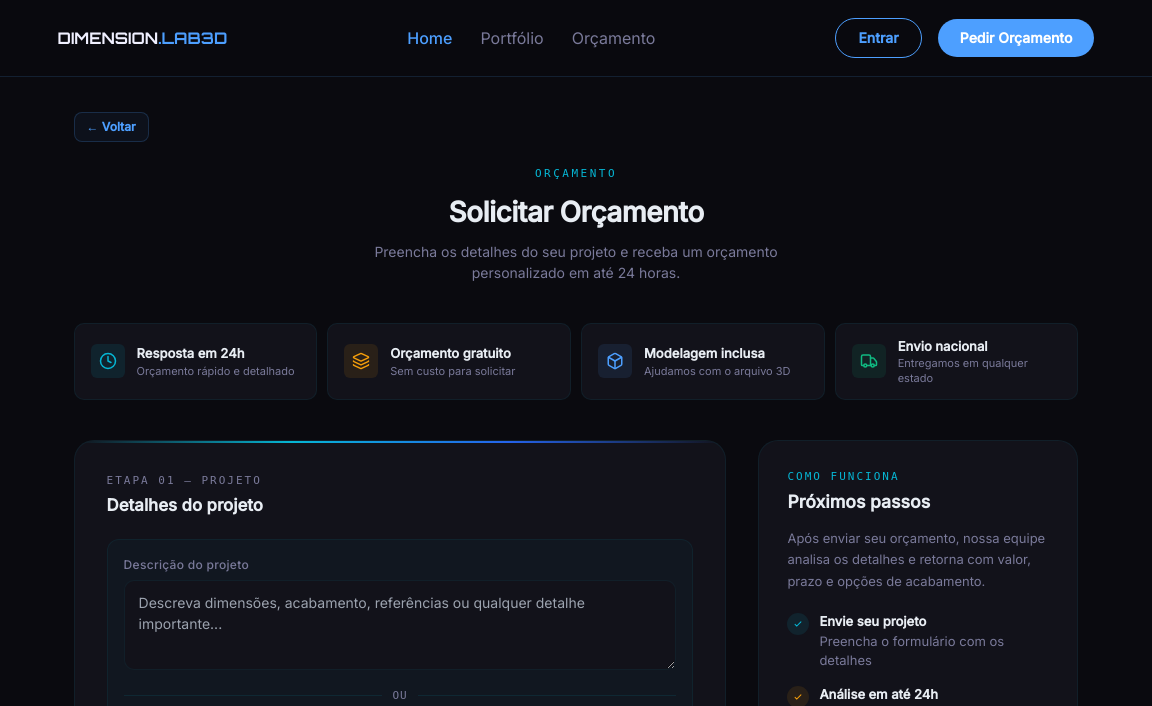
QuoteRequest page › shows color validation error when color is not selected
Fill everything except color
Step 1. Type "A valid description here" into the text box labelled "Descrição do projeto" → (400, 625), box [124, 580, 676, 670]
(page scrolled)
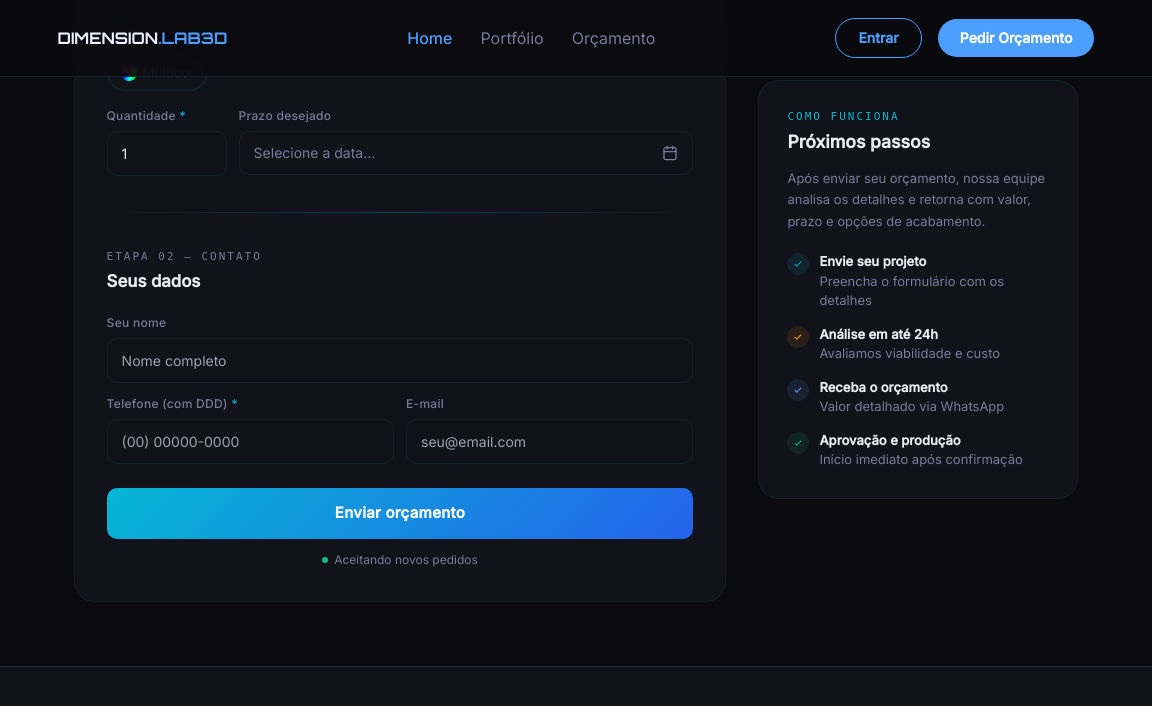
Step 2. Type "Test User" into the field labelled "Seu nome" → (400, 361), box [107, 338, 693, 383]
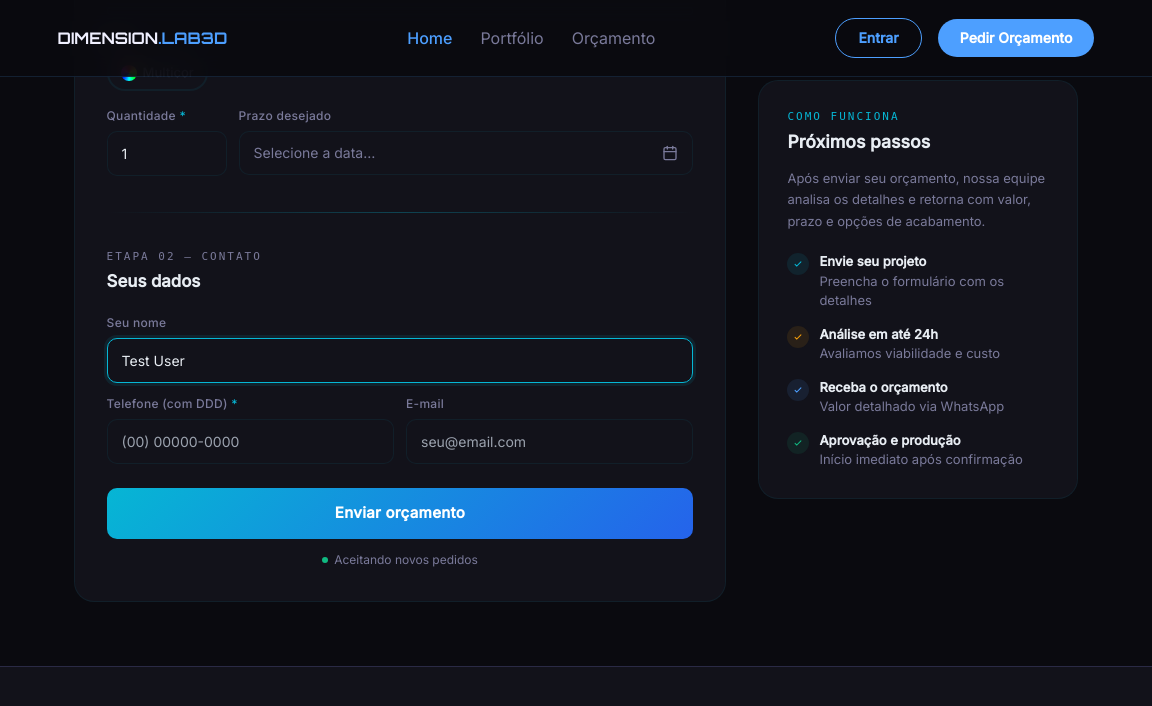
Step 3. Type "test@test.com" into the field labelled "E-mail" → (550, 442), box [406, 419, 693, 464]
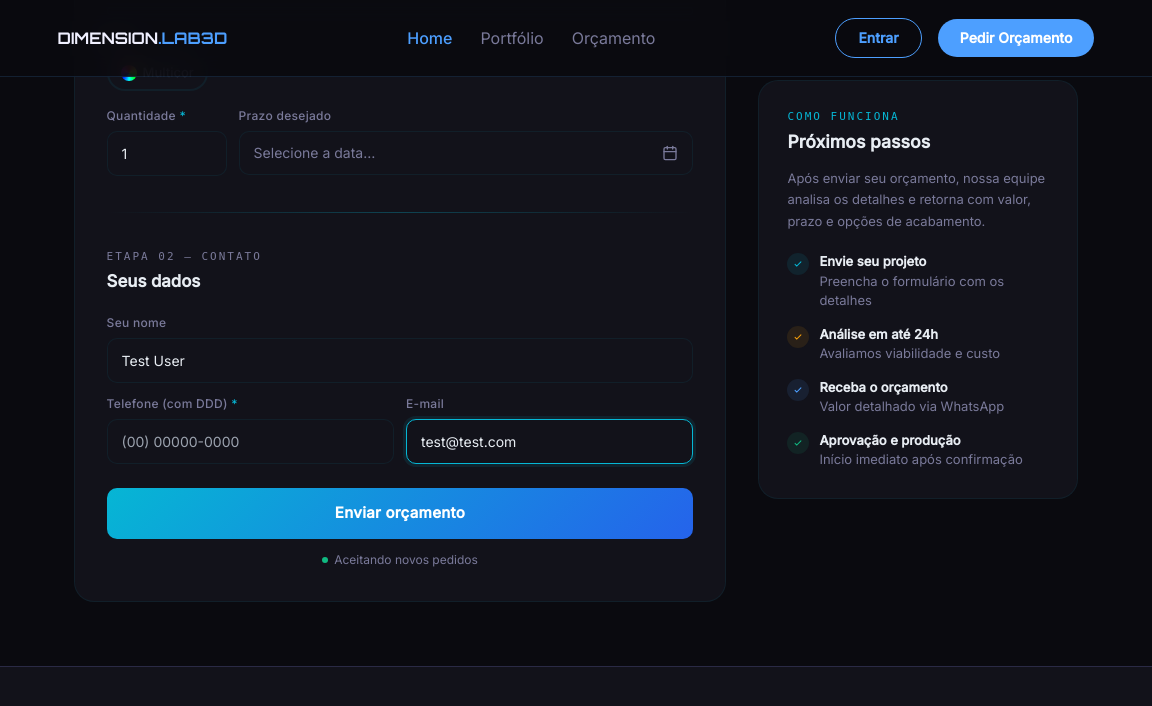
Step 4. Type "(11) 99999-9999" into the field labelled "Telefone (com DDD) *" → (250, 442), box [107, 419, 394, 464]
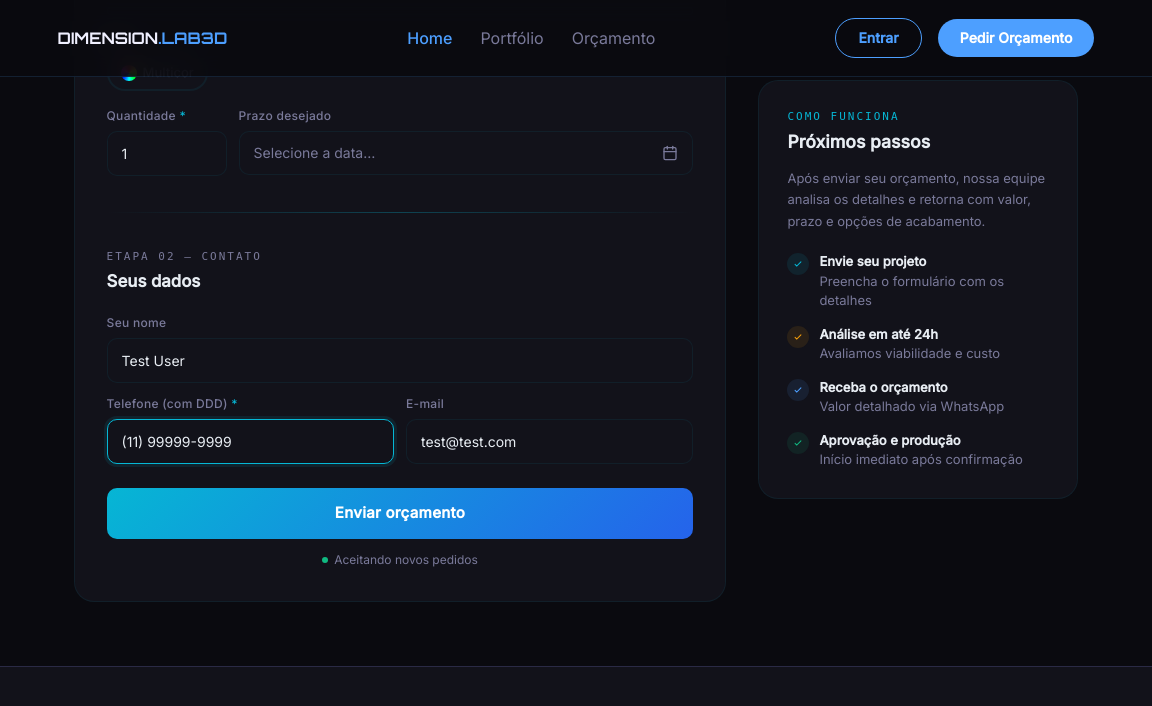
Step 5. Click the button "Enviar orçamento" → (400, 514), box [107, 488, 693, 539]
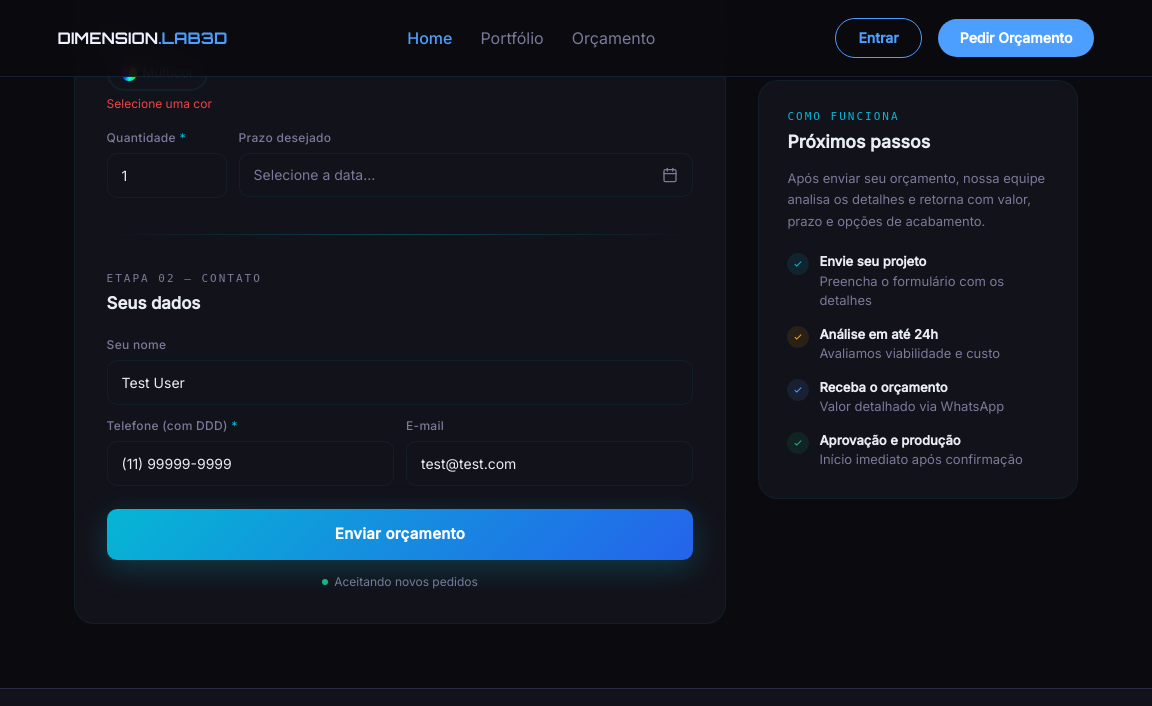
Check: the text "Selecione uma cor" is shown, box [107, 96, 212, 111]
